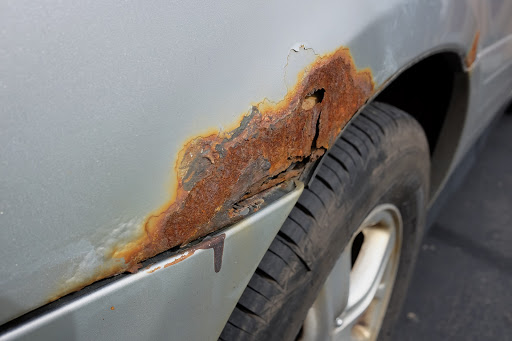rust: (133, 134, 260, 263), (275, 56, 374, 179)
